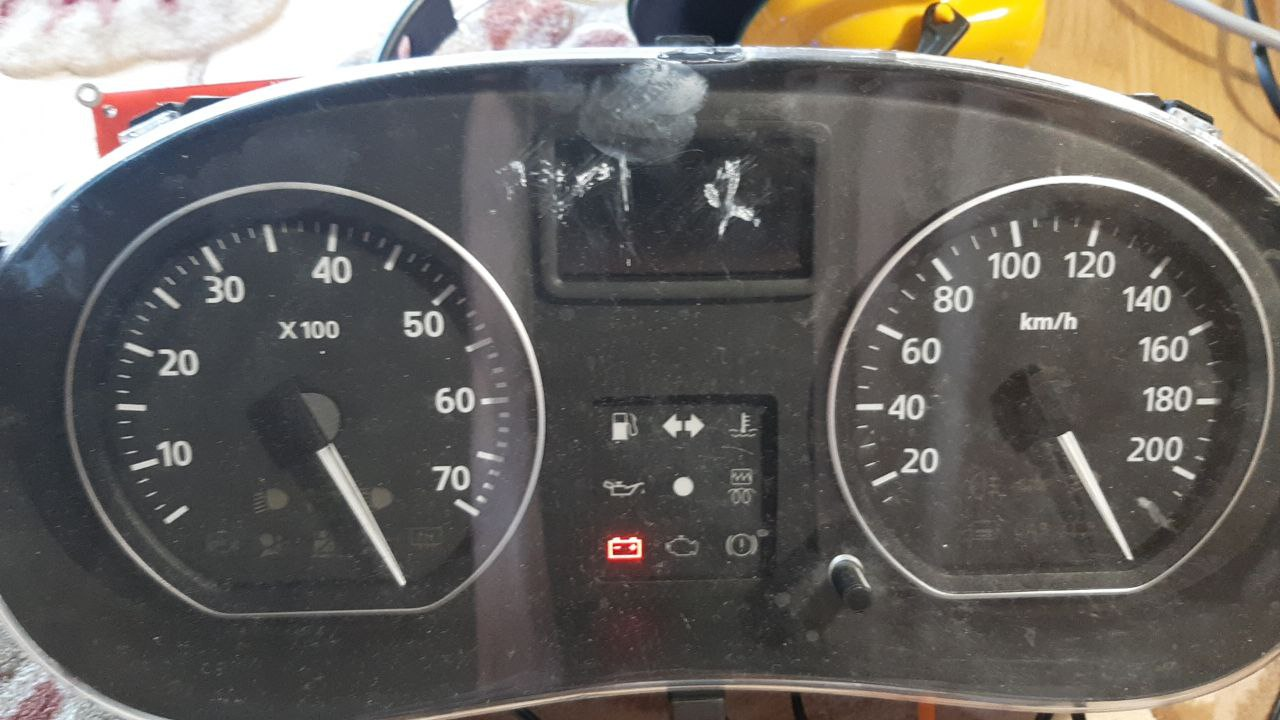accumulator: (598, 533, 646, 564)
